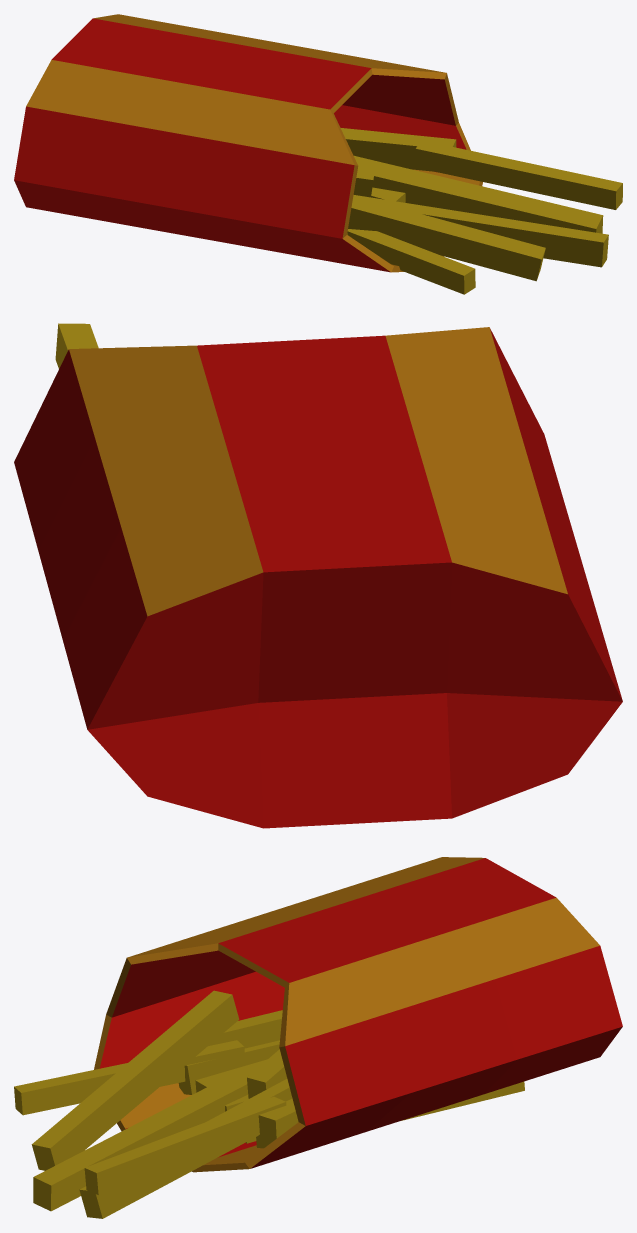
Rendered from papas a la francesa.FBX.
3 renders of one model, top to bottom at view 1: azimuth 30°, elevation 25°; view 2: azimuth 150°, elevation 25°; view 3: azimuth 270°, elevation 25°, orthographic. The views are drawn at different scales.
Visible parts, largest first — view 1: caja de papas, papas; view 2: caja de papas, papas; view 3: caja de papas, papas.
Boxes of the visible parts, x1,y1,x2,y2 form: caja de papas: [14, 14, 482, 272]; papas: [340, 128, 622, 294]; caja de papas: [14, 327, 622, 828]; papas: [55, 323, 98, 368]; caja de papas: [94, 857, 622, 1172]; papas: [14, 990, 524, 1218].
Bounding box in the file's own units: 17.25 × 5.22 × 17.73.
